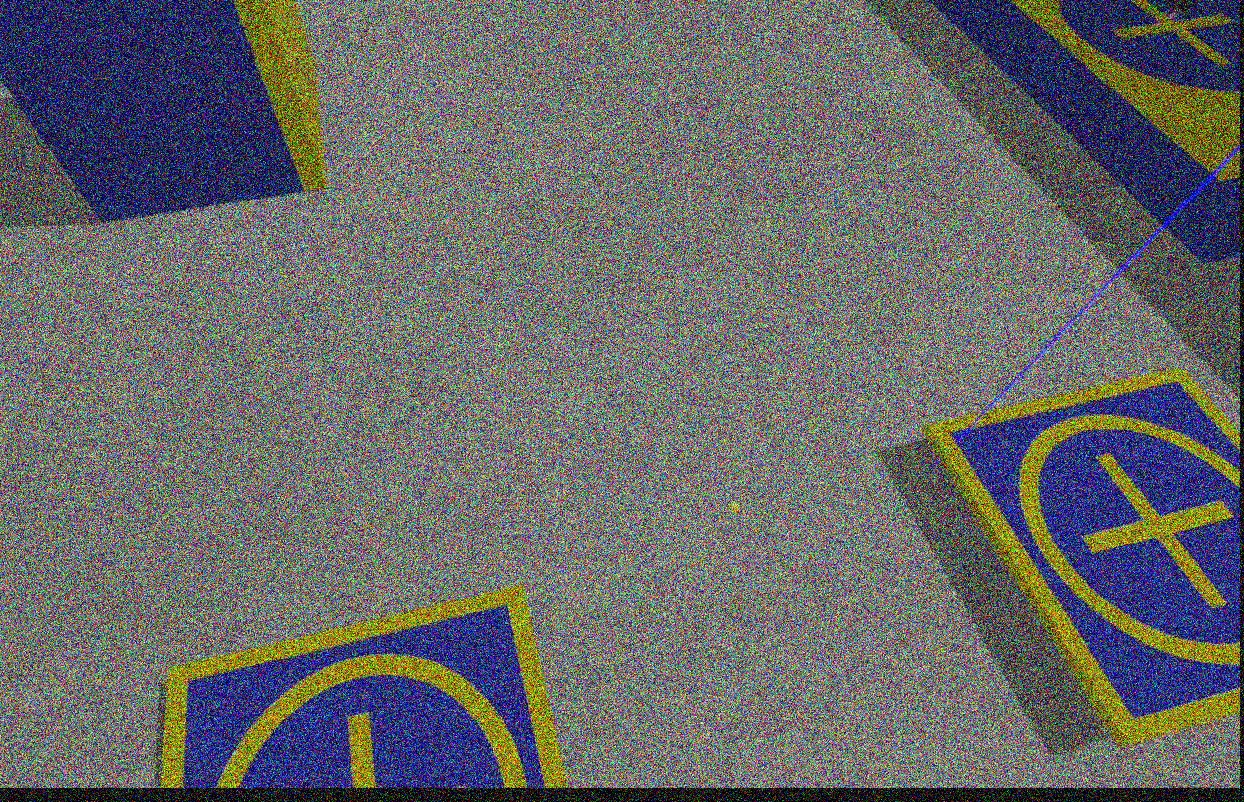large_base: (931, 1, 1242, 265)
small_base: (925, 371, 1244, 748), (146, 581, 579, 791)
